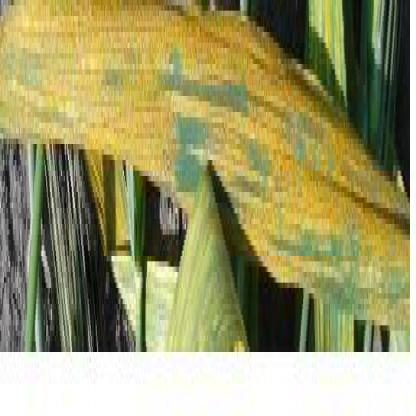Wheat-Yellow-rust: (115, 11, 137, 150), (92, 6, 112, 148), (157, 3, 172, 172), (0, 0, 19, 133), (140, 11, 155, 157), (22, 3, 37, 136), (56, 5, 71, 131), (74, 5, 88, 137), (40, 6, 53, 134), (364, 156, 378, 261), (333, 121, 345, 240), (216, 112, 237, 177), (349, 136, 361, 242), (296, 160, 314, 221), (248, 32, 264, 100), (263, 100, 284, 149), (268, 159, 280, 241), (382, 186, 394, 267), (219, 8, 234, 67), (246, 186, 263, 233), (292, 90, 310, 130), (318, 158, 329, 222), (245, 106, 261, 149), (284, 174, 295, 235), (178, 94, 200, 124), (205, 20, 216, 74), (192, 18, 202, 74), (267, 38, 276, 93), (237, 17, 244, 74), (174, 2, 188, 29), (278, 56, 287, 95), (398, 224, 405, 264)
